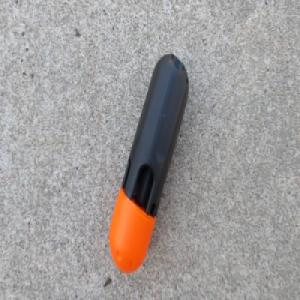PlasticPart: (107, 52, 189, 274)
